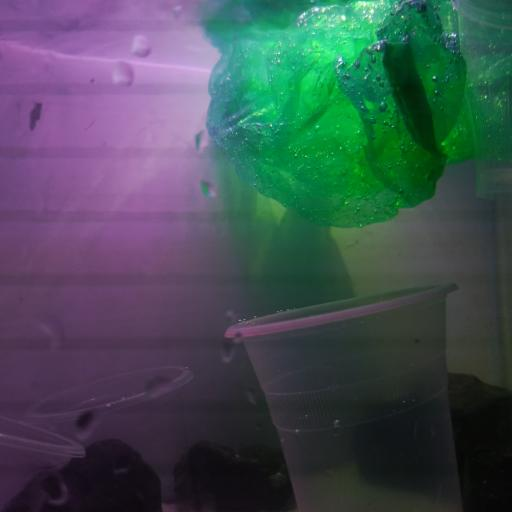plastic_bag: (204, 0, 512, 228)
plastic_cup: (222, 281, 464, 512), (18, 361, 196, 512), (450, 0, 512, 202), (0, 414, 84, 512)
